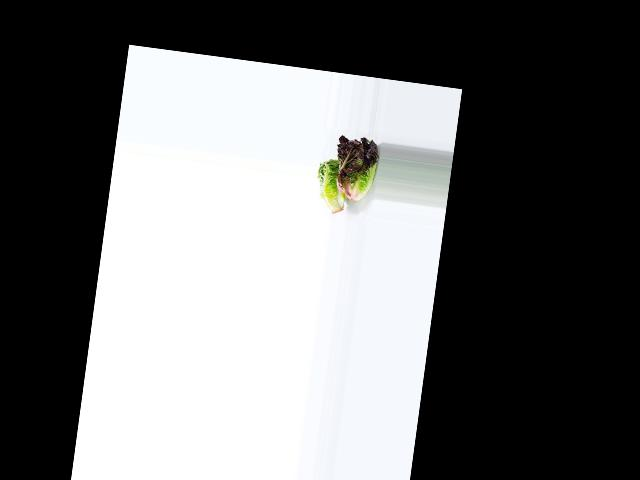lettuce: (312, 156, 352, 217)
